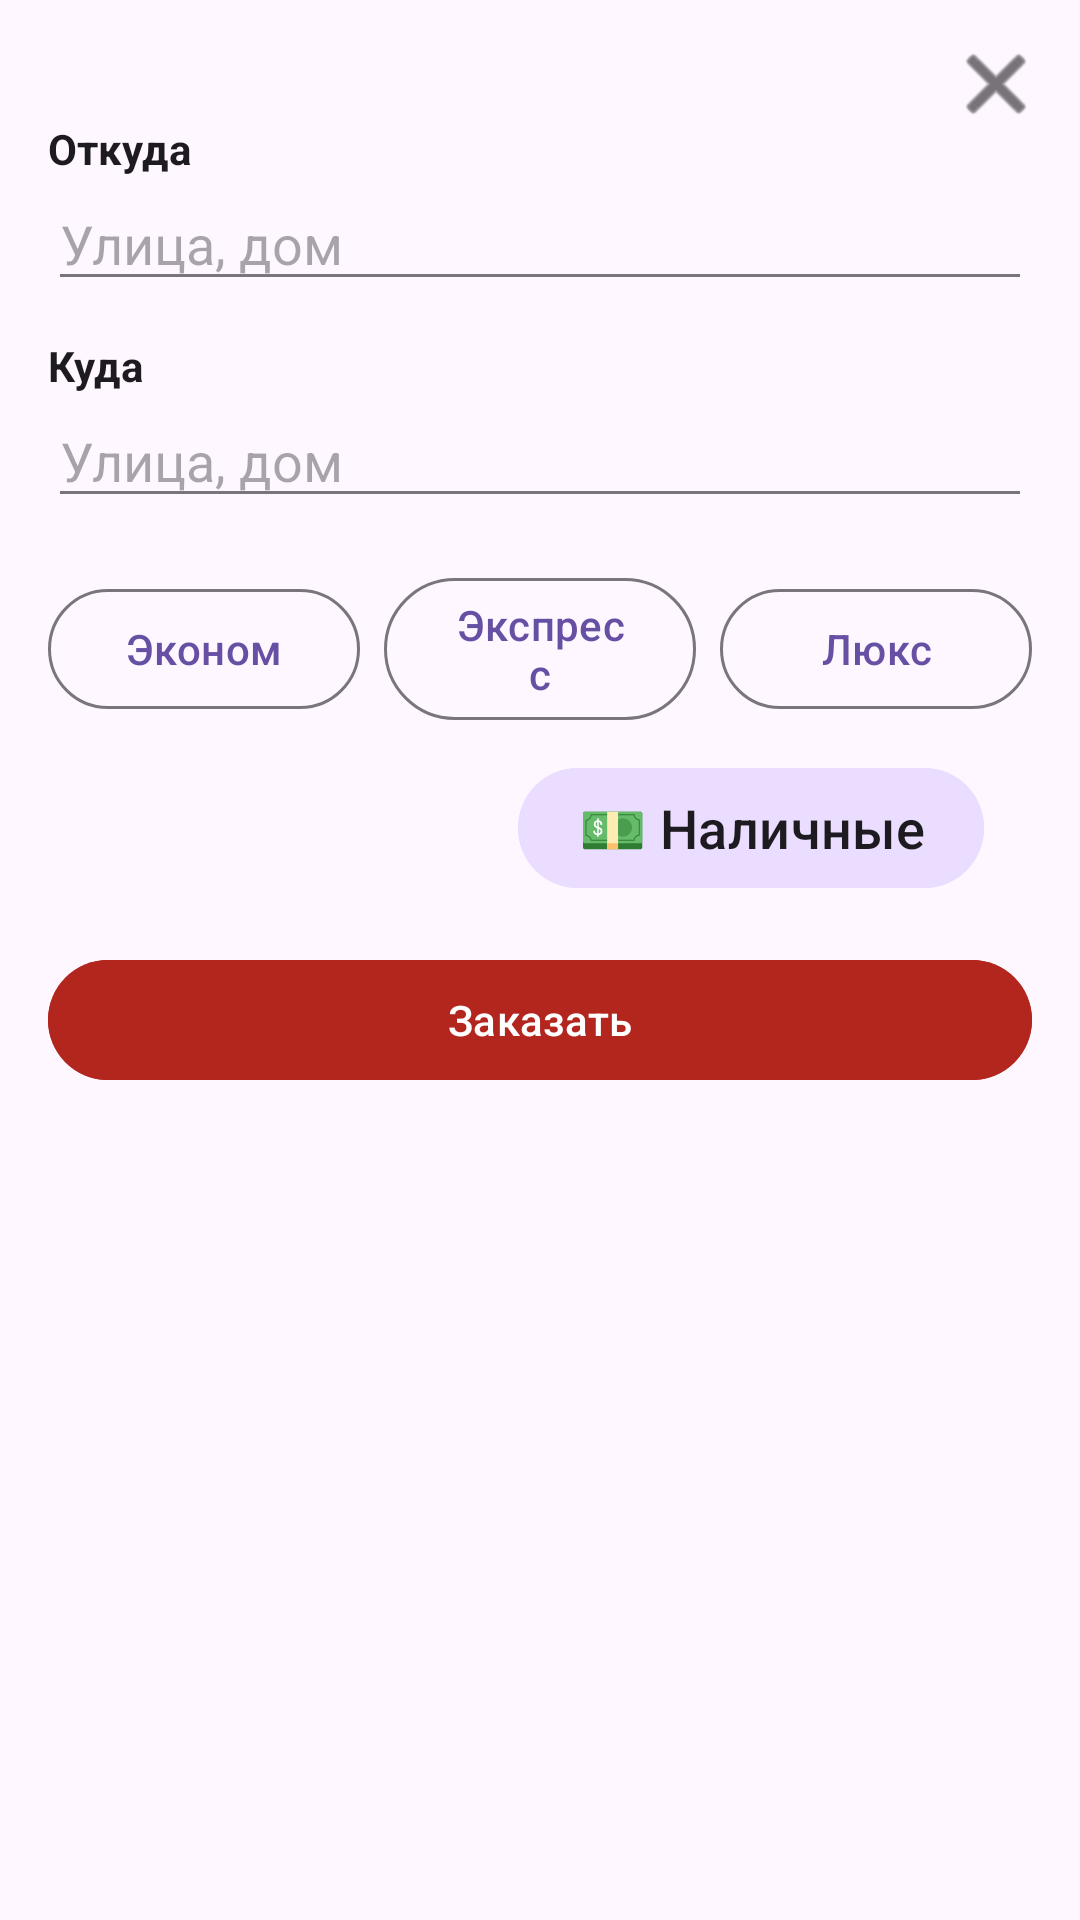

Where to tap for icons on this 1080 x 1920 app screen, as (x=x, y=y):
Закрыть: (x=996, y=84)
